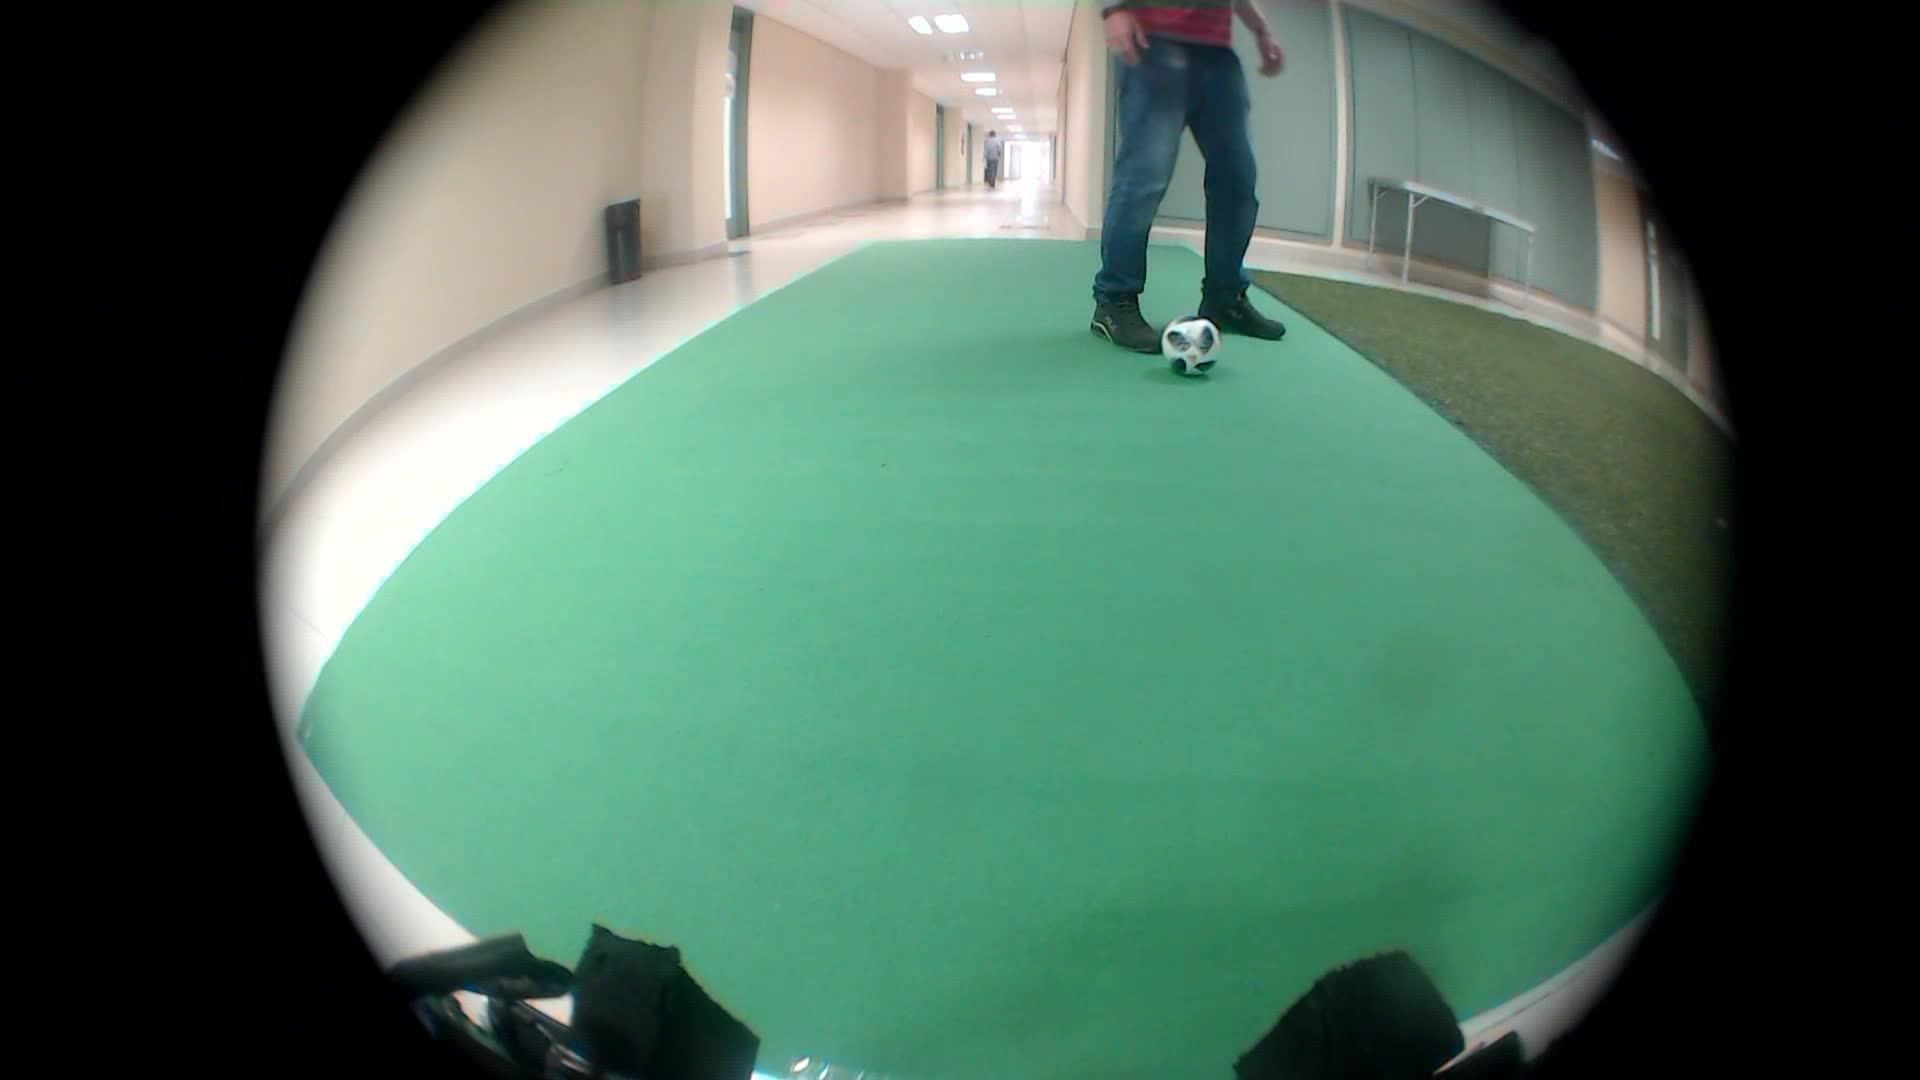ball: (1146, 310, 1232, 386)
